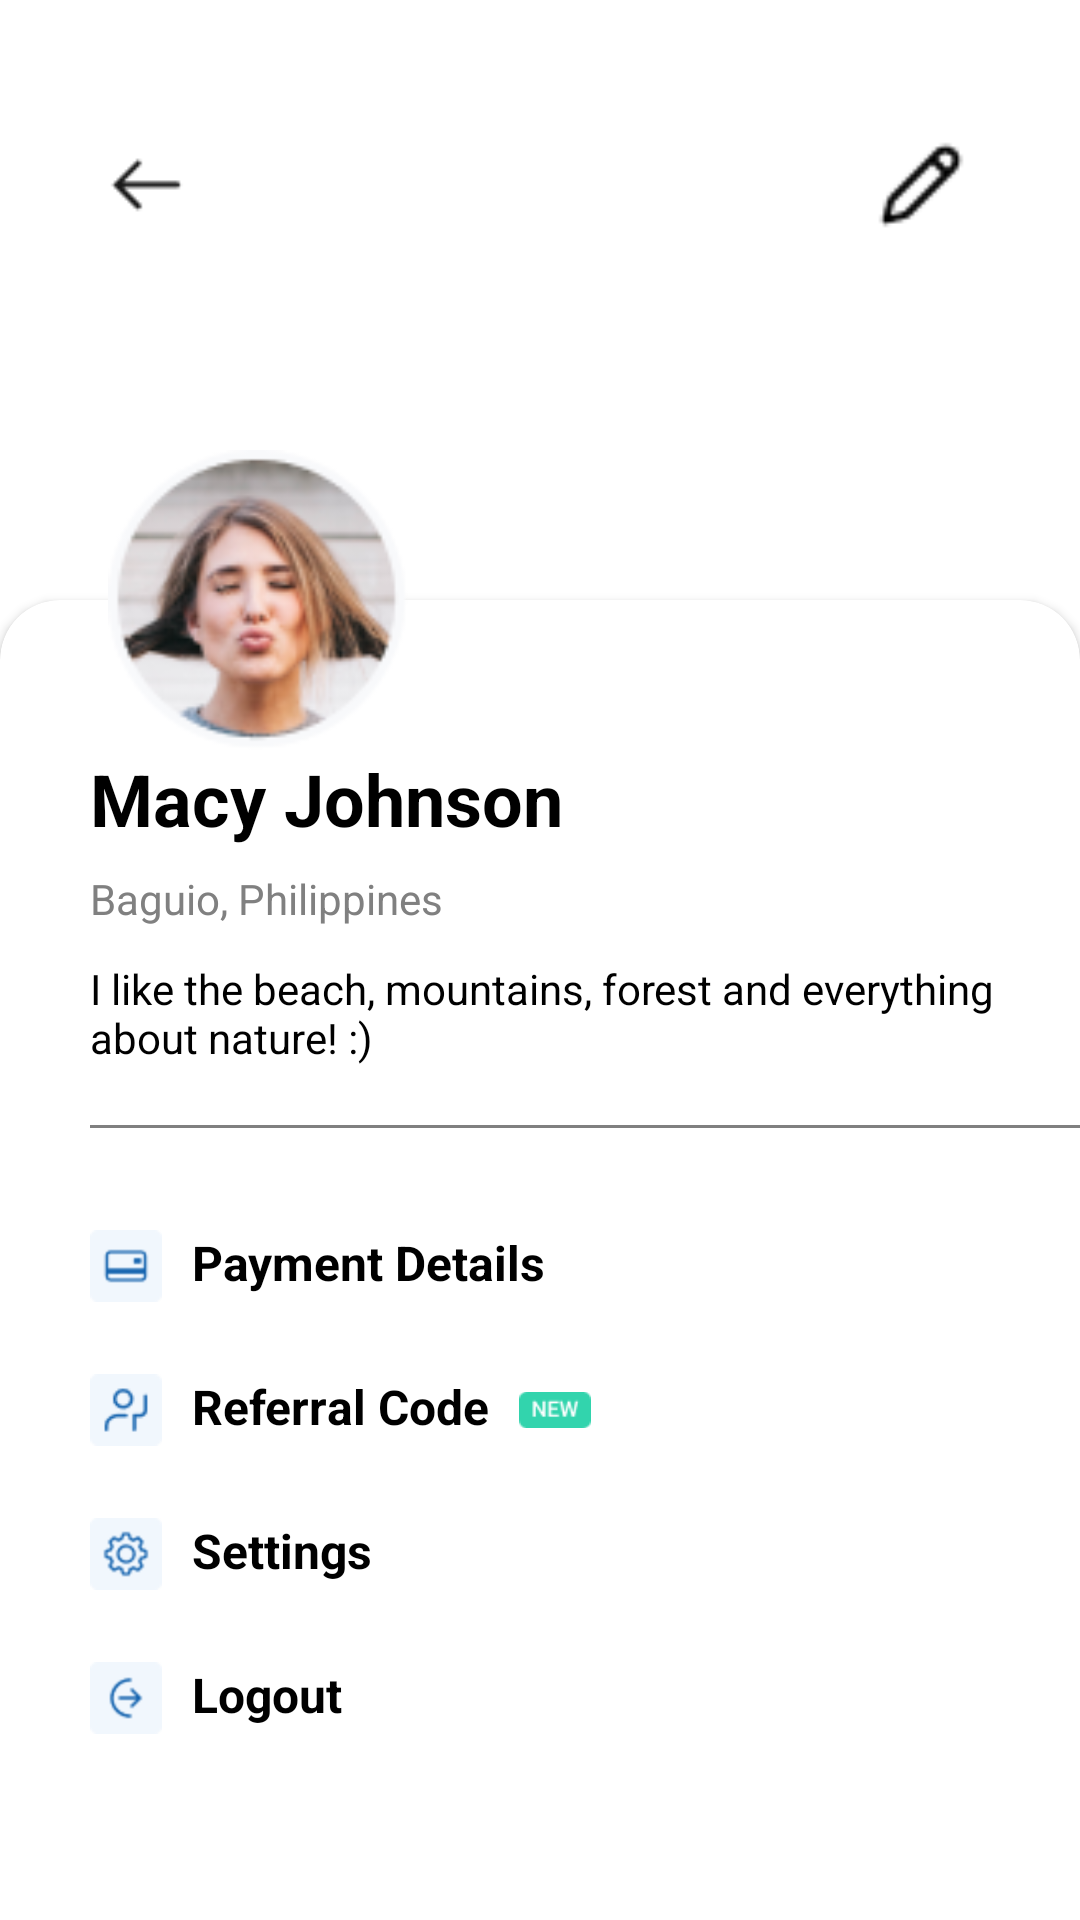

Icon bounding boxes for this 1080×1920 phone screenshot, format bbox=(x1, y1, x2, y2):
back: bbox=(112, 159, 181, 211)
lapiz editar: bbox=(880, 143, 963, 227)
profile: bbox=(118, 459, 396, 739)
